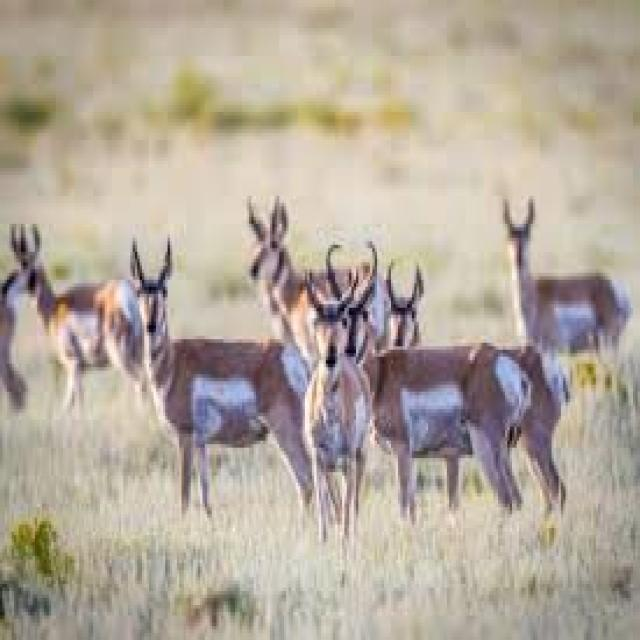Antelope: (329, 242, 535, 516), (130, 232, 311, 513), (236, 195, 426, 378), (12, 210, 144, 404), (502, 191, 637, 365)
